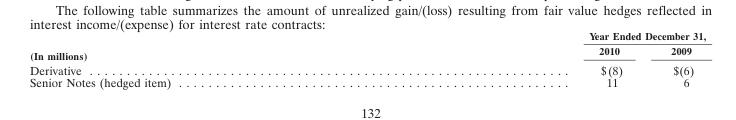table: (28, 28, 705, 89)
table column: (28, 28, 379, 89), (379, 28, 646, 89), (646, 28, 705, 89)
table column header: (28, 28, 705, 62)
table row: (28, 42, 705, 62), (28, 28, 705, 42), (28, 75, 705, 89), (28, 62, 705, 75)
table spanning cell: (28, 28, 379, 62), (379, 28, 705, 42)
